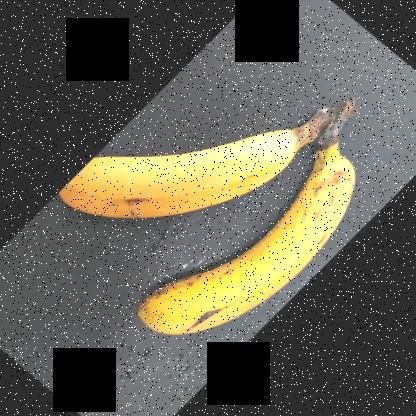freshripe: (47, 116, 315, 231)
ripe: (140, 162, 360, 362)
